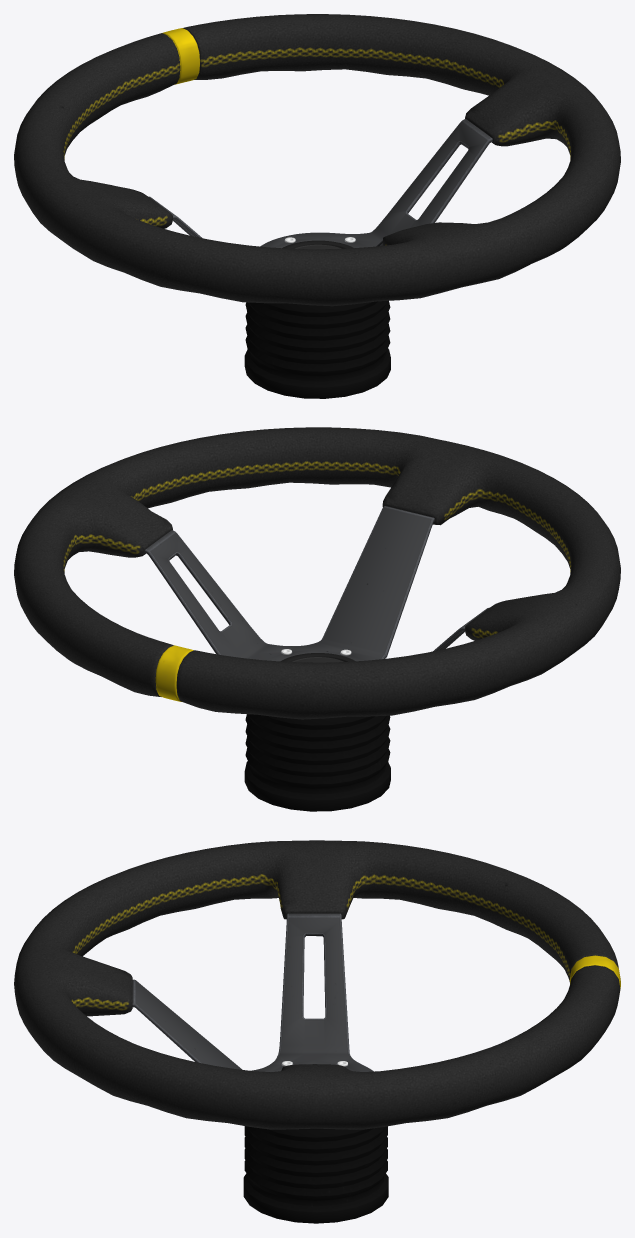
The model's file is steeringWheel.glb.
The picture shows the model from 3 angles, top to bottom: view 1: azimuth 30°, elevation 25°; view 2: azimuth 150°, elevation 25°; view 3: azimuth 270°, elevation 25°; orthographic projection.
Parts seen in each view (by area): view 1: volan_obrucMID_low, volan_adapter_low, volan_srce_low; view 2: volan_obrucMID_low, volan_srce_low, volan_adapter_low, volan_truba_low; view 3: volan_obrucMID_low, volan_adapter_low, volan_srce_low.
Boxes of the visible parts, x1,y1,x2,y2 form: volan_obrucMID_low: [14, 14, 620, 306]; volan_adapter_low: [244, 300, 390, 398]; volan_srce_low: [149, 119, 492, 248]; volan_obrucMID_low: [14, 427, 620, 719]; volan_srce_low: [145, 506, 489, 661]; volan_adapter_low: [244, 714, 390, 811]; volan_truba_low: [280, 653, 355, 662]; volan_obrucMID_low: [14, 840, 620, 1129]; volan_adapter_low: [243, 1126, 388, 1223]; volan_srce_low: [132, 913, 373, 1071].
Bounding box in the file's own units: 0.1379 × 0.0585 × 0.1381.
1 material, 1 textured.
